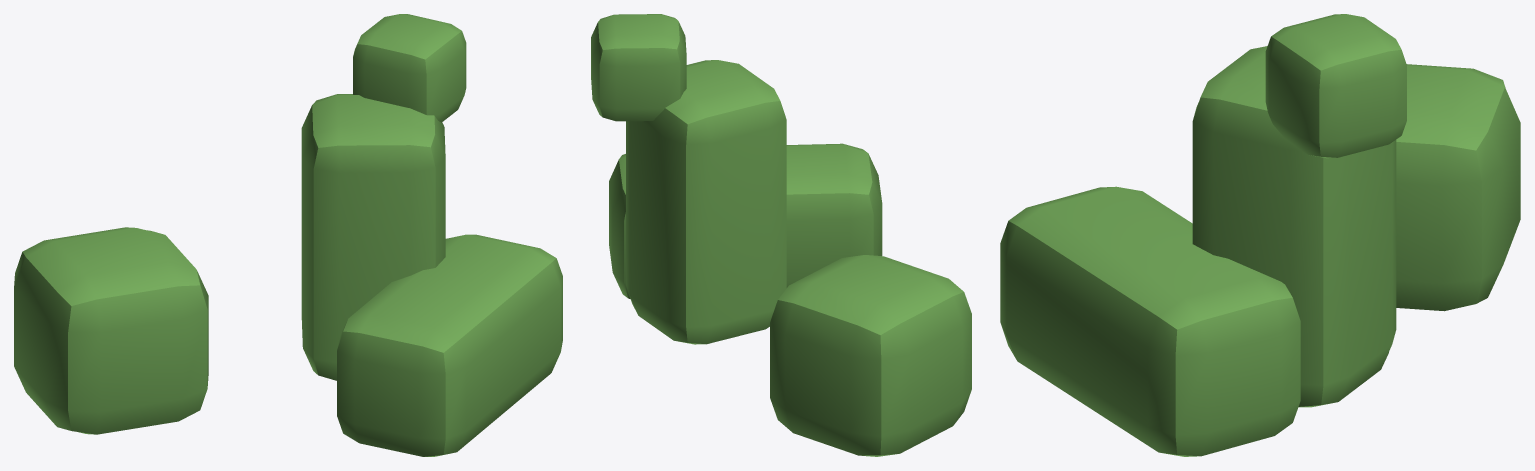
Rendered from foliage_05.fbx.
3 renders of one model, left to right at view 1: azimuth 30°, elevation 25°; view 2: azimuth 150°, elevation 25°; view 3: azimuth 270°, elevation 25°, orthographic. The views are drawn at different scales.
Visible parts, largest first — view 1: foliage_05; view 2: foliage_05; view 3: foliage_05.
Part boxes in pixels (x1,y1,x2,y2): foliage_05: [14, 14, 562, 456]; foliage_05: [591, 14, 971, 456]; foliage_05: [1000, 14, 1520, 456].
Bounding box in the file's own units: 8.69 × 6.38 × 7.27.
